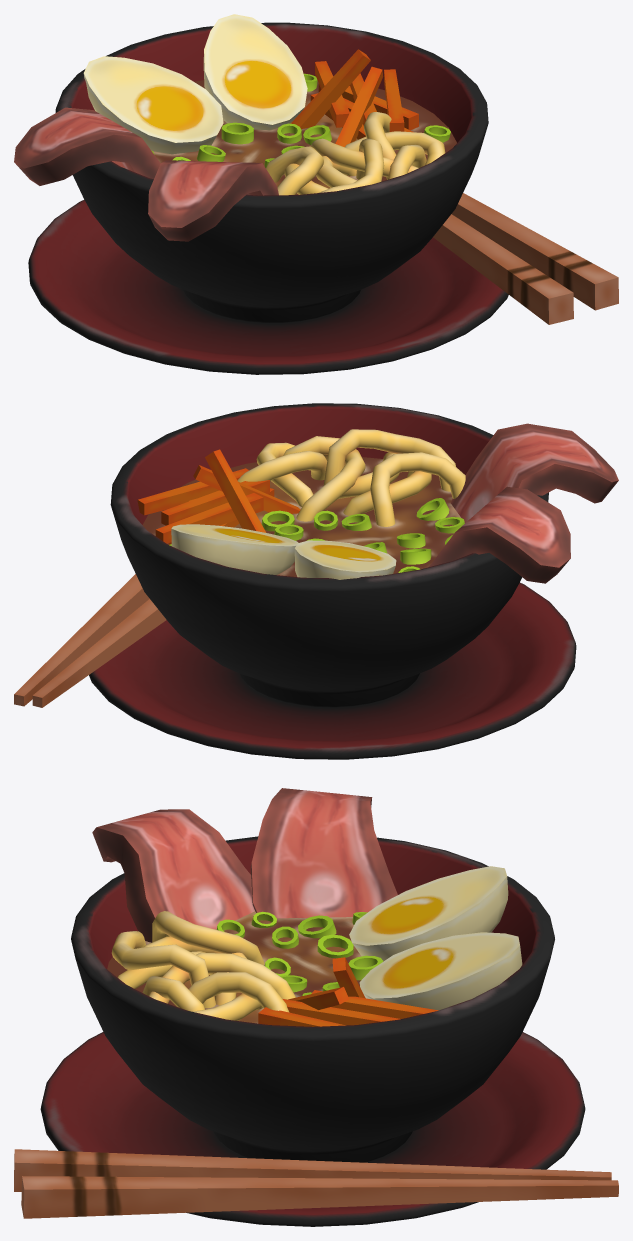
File: NoodleSketchfab.fbx
The picture shows the model from 3 angles, top to bottom: view 1: azimuth 30°, elevation 25°; view 2: azimuth 150°, elevation 25°; view 3: azimuth 270°, elevation 25°; orthographic projection. The views are drawn at different scales.
Parts seen in each view (by area): view 1: Circle; view 2: Circle; view 3: Circle.
Part boxes in pixels (box(x1,y1,x2,y2)): Circle: box(14, 14, 618, 374); Circle: box(14, 403, 618, 759); Circle: box(14, 788, 618, 1226).
Size of the model in its own units: 554 by 251 by 565.
1 material, 1 textured.
